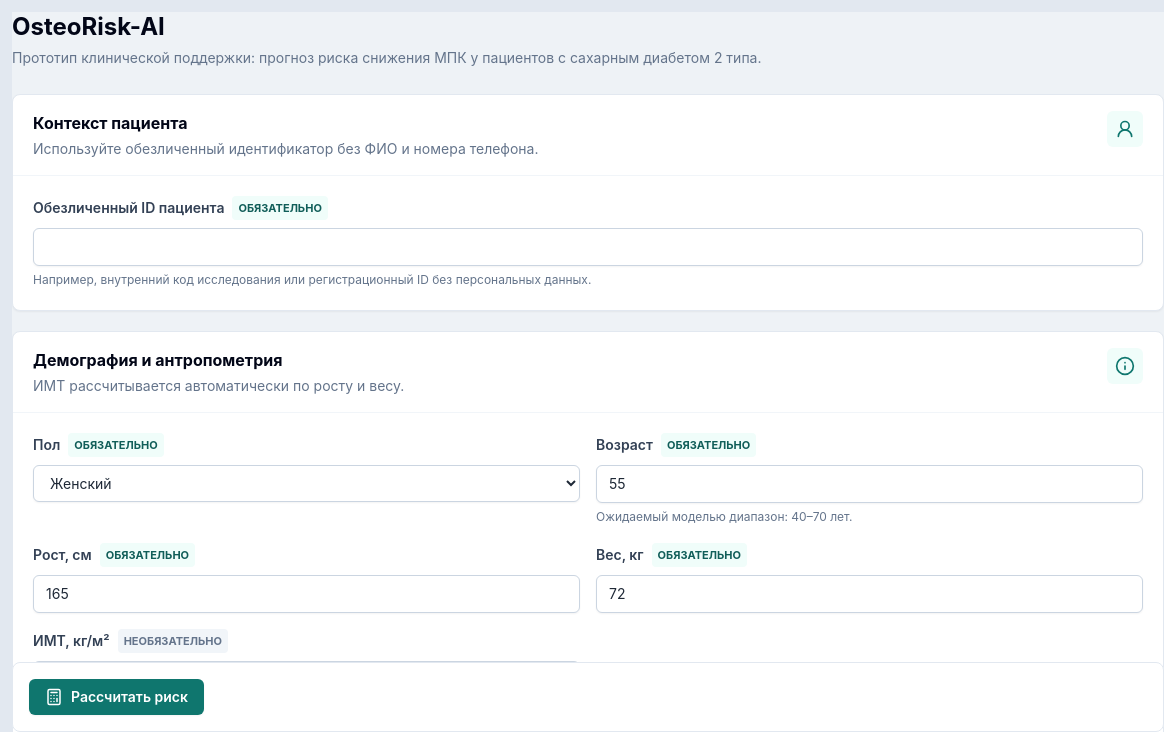
Test: OsteoRiskPage › validates required fields before submission
This screenshot has width=1164, height=732.
Click the button "Рассчитать риск" at {"x": 116, "y": 697}, box left=29, top=679, right=204, bottom=715
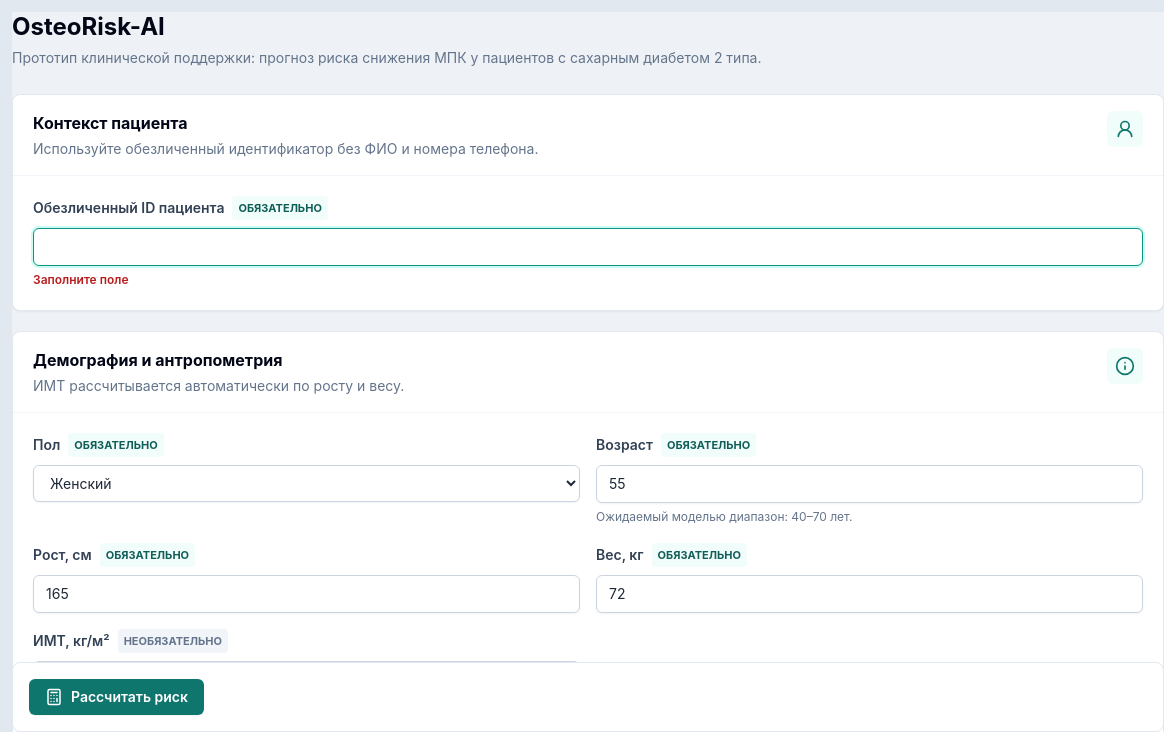
Result: the text "Заполните поле" is shown at left=33, top=272, right=128, bottom=287
